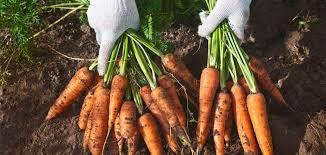Organic: (1, 1, 326, 128)
